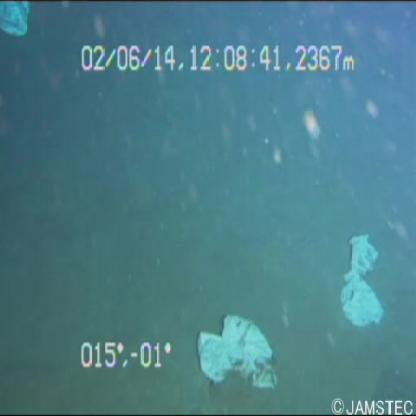Rác: (188, 300, 286, 392), (334, 215, 392, 327)
